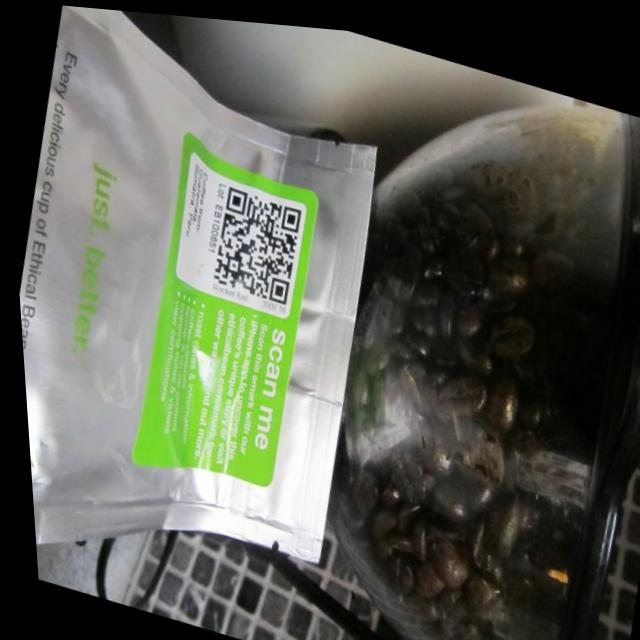qrcode: (204, 181, 304, 301)
